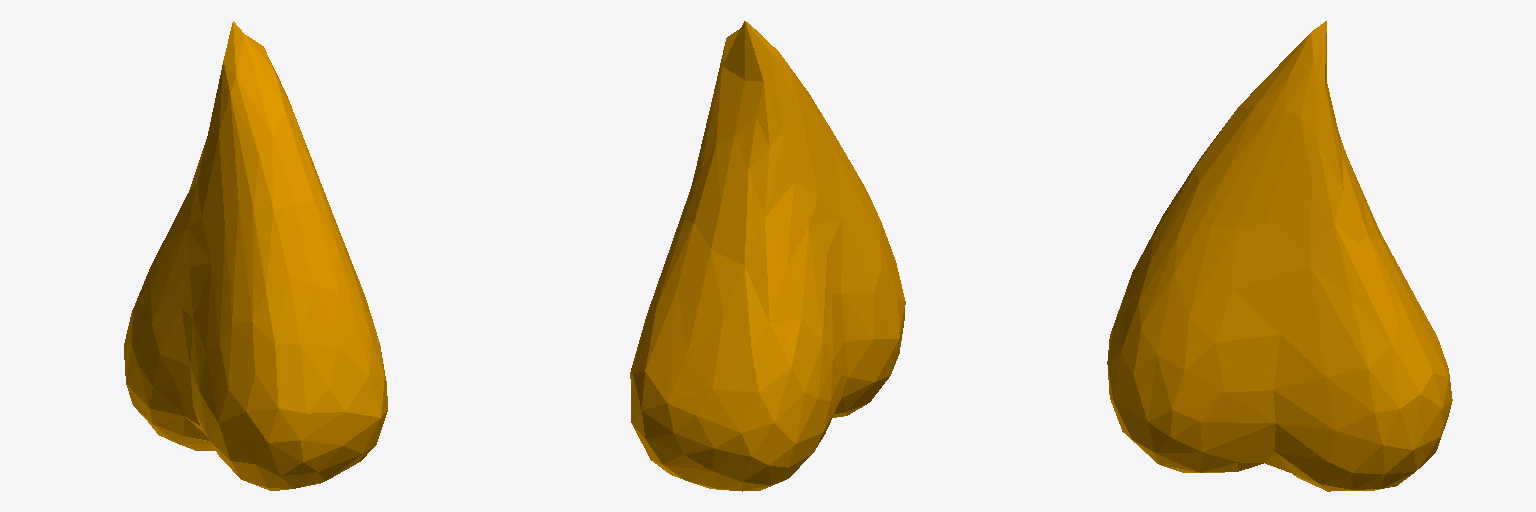
robot.urdf — Heart1_800_tex:
<?xml version="1.0"?>
<robot name="Heart1_800_tex">
  <link name="base_link">
    <contact>
      <lateral_friction value="1.0"/>
      <rolling_friction value="0.0"/>
      <contact_cfm value="0.0"/>
      <contact_erp value="1.0"/>
    </contact>
    <inertial>
      <mass value="0.0215985744727"/>
      <inertia ixx="1" ixy="0" ixz="0" iyy="1" iyz="0" izz="1"/>
    </inertial>
    <visual>
      <geometry>
        <mesh filename="Heart1_800_tex_visual.obj"/>
      </geometry>
    </visual>
    <collision>
      <geometry>
        <mesh filename="Heart1_800_tex_collision.obj"/>
      </geometry>
    </collision>
  </link>
</robot>

--- Render facts (derived) ---
The picture shows the robot from 3 angles, left to right: view 1: azimuth 30°, elevation 25°; view 2: azimuth 150°, elevation 25°; view 3: azimuth 270°, elevation 25°; orthographic projection.
Model Heart1_800_tex with 1 links and 0 joints (none), rooted at base_link, posed all joints at 0.
Visible links, largest first — view 1: base_link; view 2: base_link; view 3: base_link.
Boxes of the visible links, x1,y1,x2,y2 form: base_link: (124,21,387,490); base_link: (630,21,905,491); base_link: (1107,21,1452,491).
Size in the robot's own frame: 0.0261 by 0.0447 by 0.0654 metres.
1 mesh visuals loaded from 1 distinct referenced files (1 OBJ).